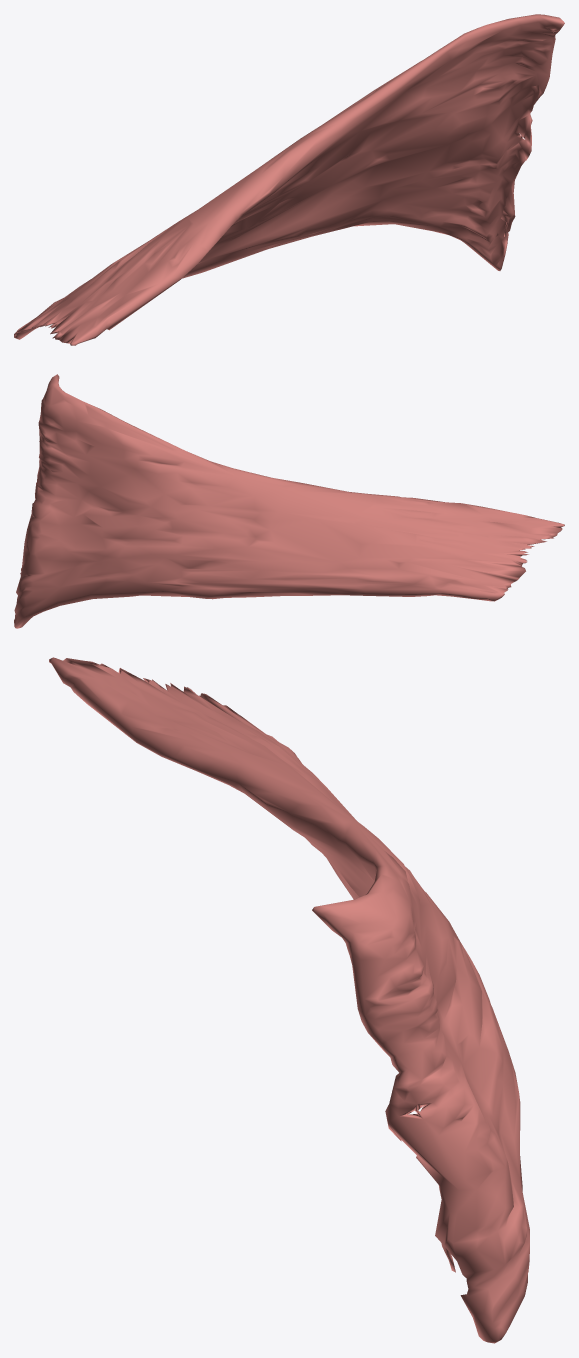
3 views of the same model, one above another, from view 1: azimuth 30°, elevation 25°; view 2: azimuth 150°, elevation 25°; view 3: azimuth 270°, elevation 25° (orthographic). The views are drawn at different scales.
Visible parts, largest first — view 1: ZA_a8729a66ef535593; view 2: ZA_a8729a66ef535593; view 3: ZA_a8729a66ef535593.
Boxes of the visible parts, x1,y1,x2,y2 form: ZA_a8729a66ef535593: [14, 14, 564, 345]; ZA_a8729a66ef535593: [14, 374, 564, 628]; ZA_a8729a66ef535593: [49, 657, 529, 1343].
Size of the model in its own units: 0.1723 by 0.0812 by 0.0801.
